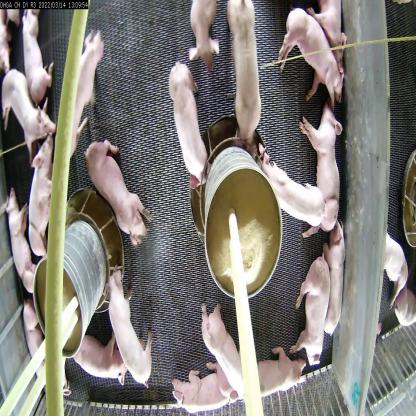Pig: (83, 119, 153, 255), (214, 0, 274, 149), (271, 13, 352, 114), (253, 146, 332, 244), (166, 57, 218, 191), (52, 22, 108, 138), (302, 106, 348, 246), (10, 0, 66, 115), (26, 117, 66, 275), (198, 308, 268, 396), (112, 260, 155, 392), (0, 51, 47, 157), (293, 263, 337, 376), (248, 346, 314, 410), (177, 0, 225, 67), (174, 365, 233, 416), (67, 330, 125, 378), (332, 226, 355, 338)
